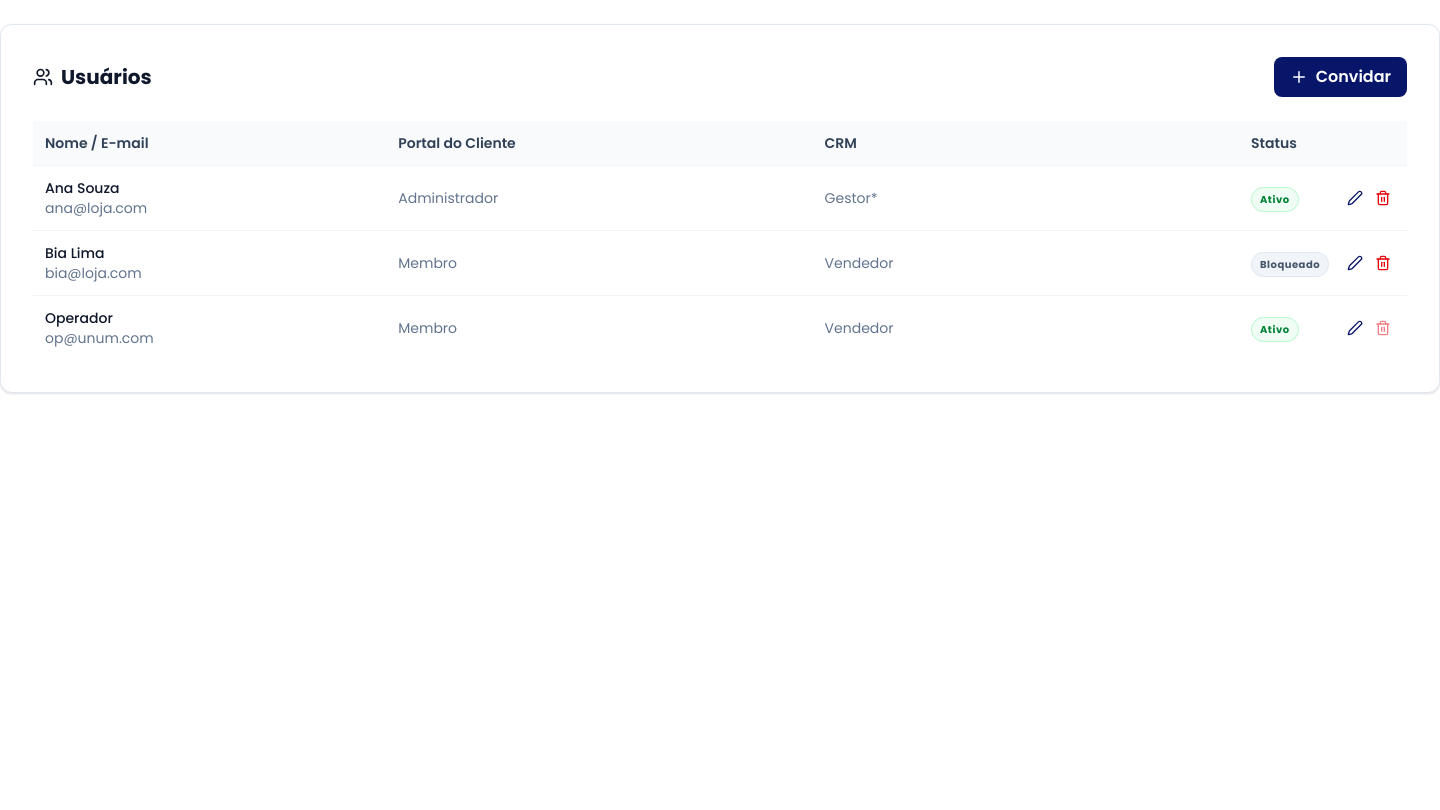
Scenario: TenantUsersSection › último administrador: a mensagem aparece na gaveta
Step 1. Click the button named "Editar acesso de Ana Souza" → (1355, 198), box [1343,186,1367,210]
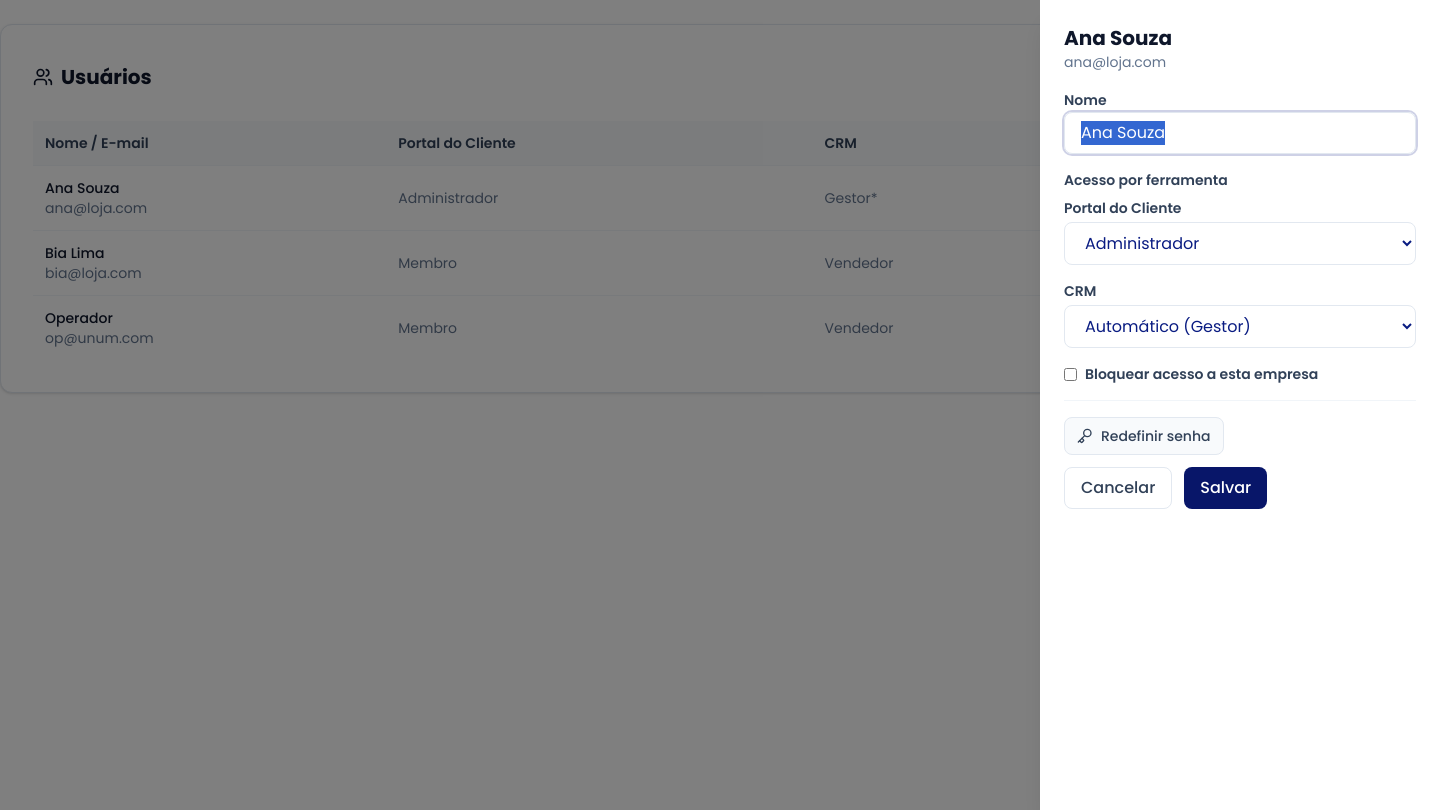
Step 2. Select "Membro" in the dropdown labelled "Portal do Cliente" → (1240, 244), box [1064,222,1416,265]
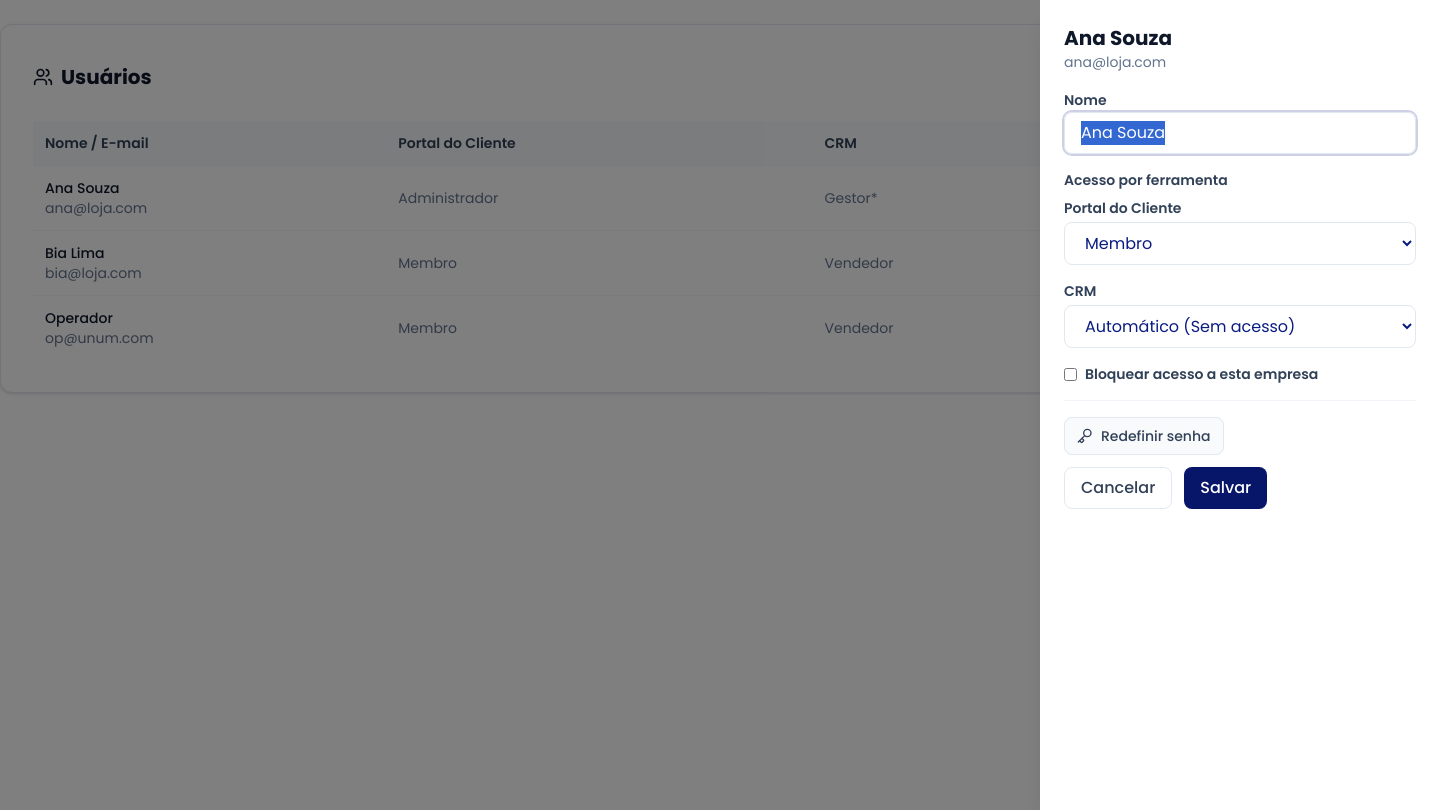
Step 3. Click the button "Salvar" → (1226, 488), box [1184,467,1267,509]
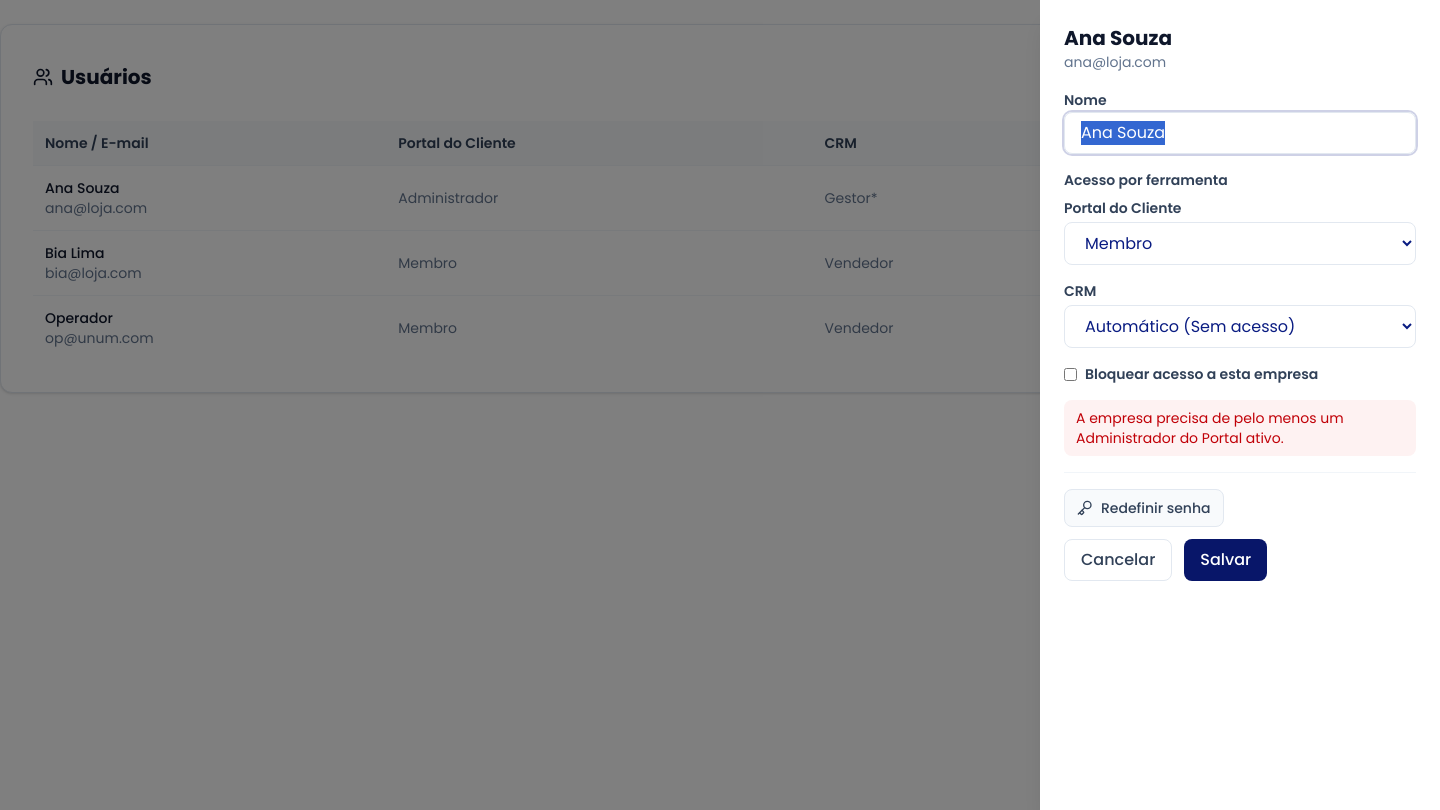
Expected: the message reads "A empresa precisa de pelo menos um Administrador do Portal ativo.", [1076,408,1344,448]
